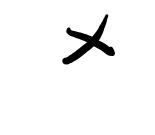mult: (62, 14, 118, 65)
